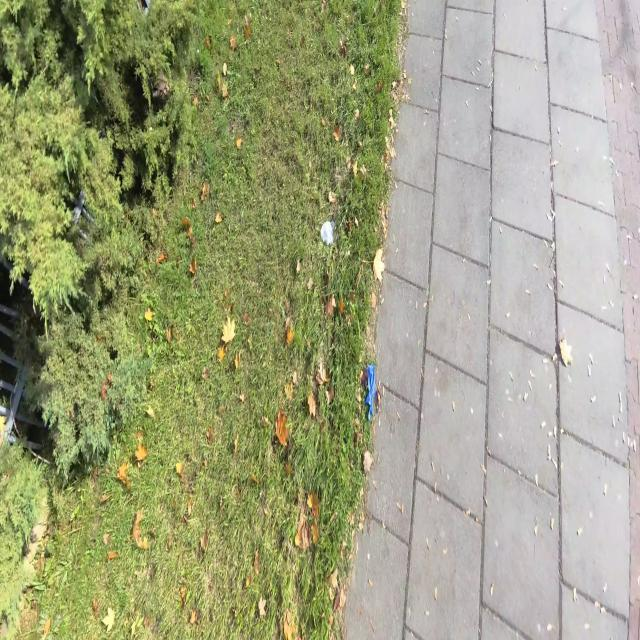rubbish: (365, 364, 375, 422), (320, 221, 335, 244)
